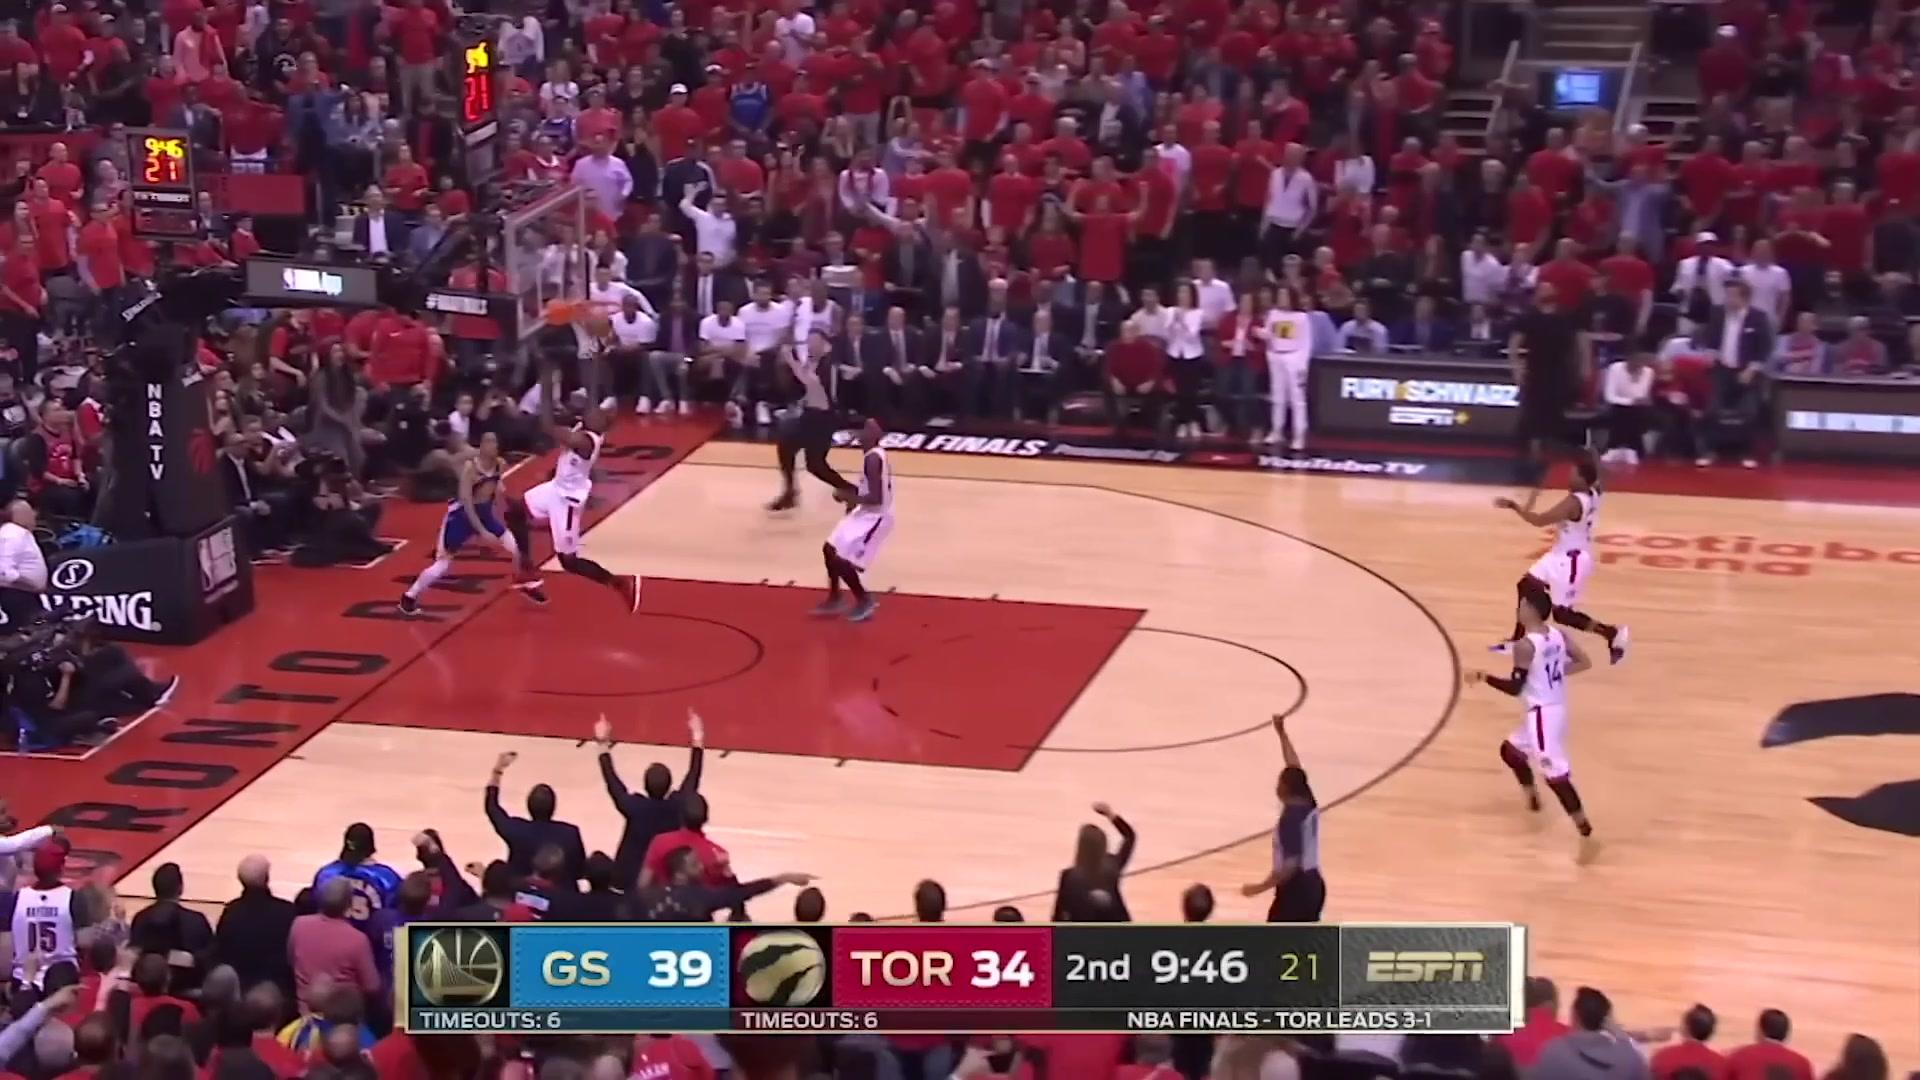foul: (429, 407, 695, 629)
